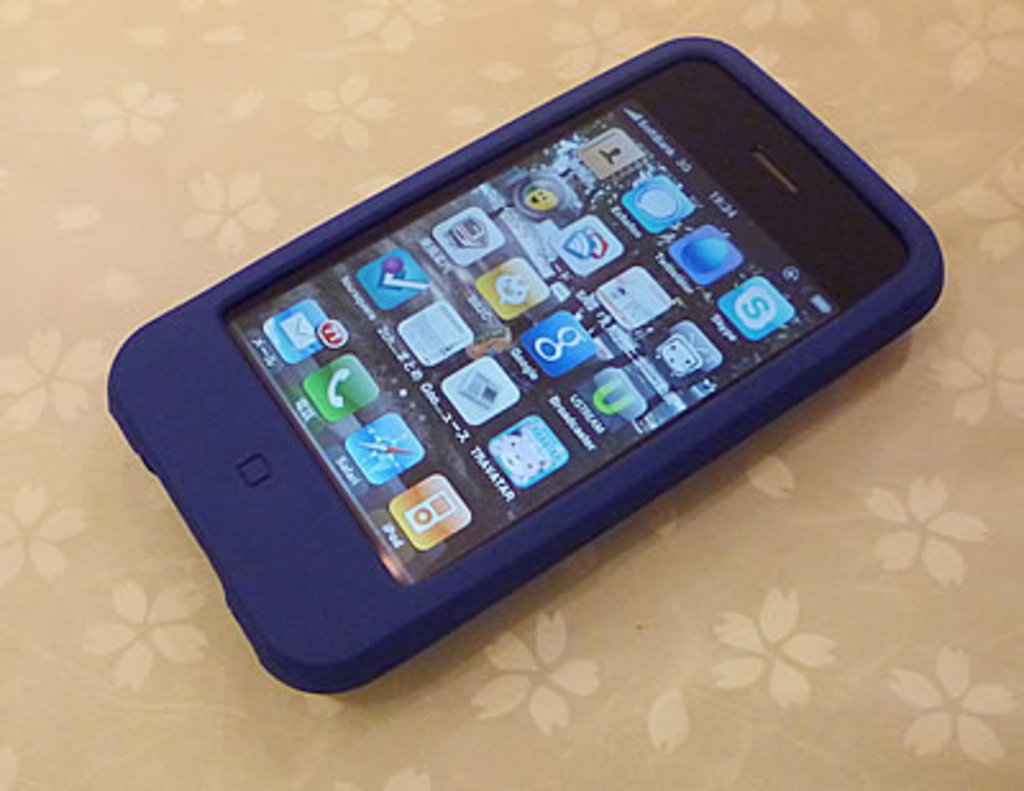Mobile-phone: (105, 15, 947, 699)
